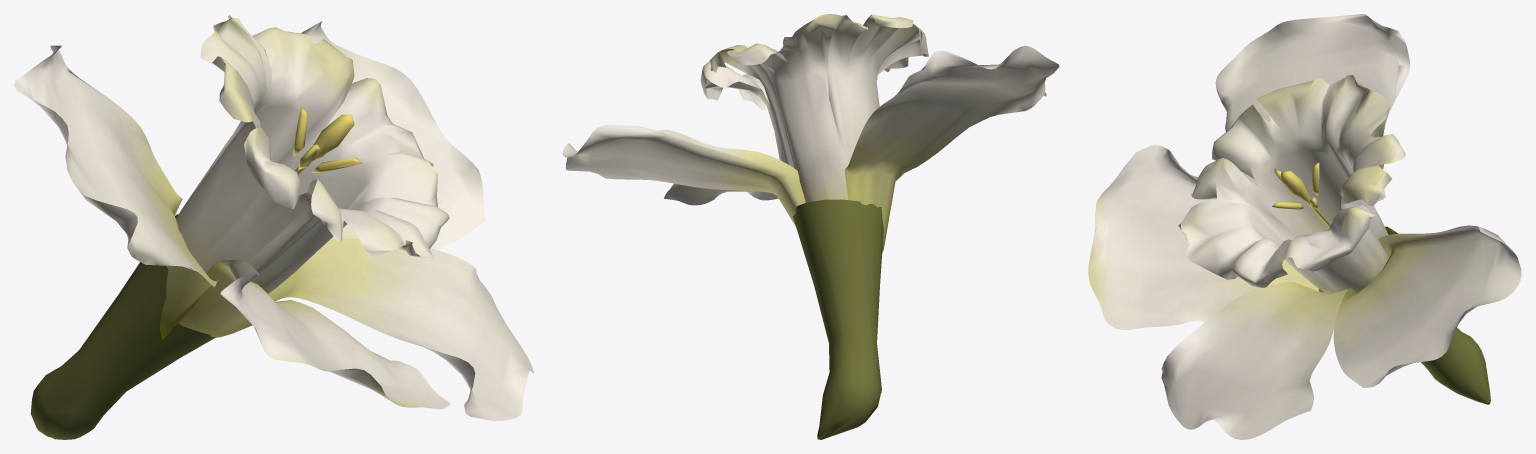
3 renders of one model, left to right at view 1: azimuth 30°, elevation 25°; view 2: azimuth 150°, elevation 25°; view 3: azimuth 270°, elevation 25°, orthographic. The views are drawn at different scales.
Visible parts, largest first — view 1: G-Ellipse164 70% 70% 70% 70%.006; view 2: G-Ellipse164 70% 70% 70% 70%.006; view 3: G-Ellipse164 70% 70% 70% 70%.006.
Part boxes in pixels (x1,y1,x2,y2): G-Ellipse164 70% 70% 70% 70%.006: [14, 15, 533, 439]; G-Ellipse164 70% 70% 70% 70%.006: [562, 14, 1059, 439]; G-Ellipse164 70% 70% 70% 70%.006: [1088, 14, 1521, 439].
Bounding box in the file's own units: 1.2 × 1.05 × 1.17.
3 materials, 1 textured.
